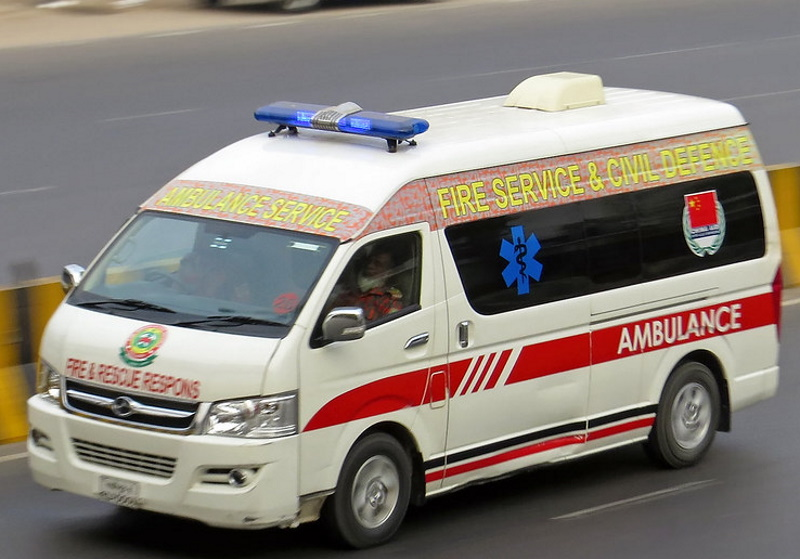ambulance: (23, 69, 784, 549)
